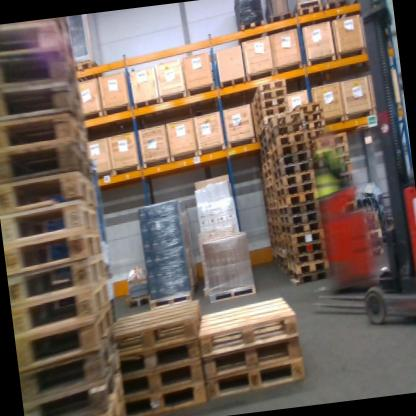forklift: (273, 0, 416, 338)
pallet: (21, 339, 126, 410), (194, 288, 300, 358), (13, 306, 116, 371), (0, 103, 94, 173), (202, 353, 312, 411), (9, 280, 115, 340), (109, 292, 203, 359), (0, 49, 86, 109), (22, 367, 124, 416), (198, 328, 301, 375), (0, 78, 88, 133), (0, 196, 99, 244), (0, 172, 99, 217), (4, 231, 110, 272), (0, 141, 94, 187), (7, 258, 108, 300), (118, 352, 207, 395), (122, 375, 210, 415), (0, 22, 78, 67), (115, 343, 202, 373), (202, 277, 260, 309), (70, 52, 108, 89), (149, 287, 197, 315), (82, 389, 131, 416), (268, 128, 311, 157), (264, 108, 305, 135), (269, 141, 310, 168), (251, 78, 289, 107), (251, 96, 290, 122), (275, 188, 319, 210), (266, 120, 304, 145), (250, 86, 286, 112), (272, 159, 311, 183), (273, 169, 314, 190), (271, 151, 310, 173), (279, 219, 323, 238), (254, 103, 287, 128), (285, 248, 327, 267), (283, 239, 327, 257), (275, 180, 316, 199), (283, 226, 324, 245), (287, 258, 330, 276), (279, 208, 322, 225), (276, 202, 320, 218), (255, 111, 285, 134), (289, 268, 331, 284), (294, 4, 326, 24), (312, 132, 346, 150), (314, 142, 350, 158), (266, 5, 293, 26), (235, 18, 266, 36), (289, 109, 325, 122), (290, 100, 323, 114), (126, 292, 153, 309), (326, 0, 348, 15), (303, 118, 327, 131), (335, 175, 352, 192), (304, 128, 325, 141), (260, 166, 274, 181), (257, 135, 270, 150), (337, 162, 350, 176), (260, 159, 271, 175), (259, 151, 271, 165), (264, 174, 275, 189), (256, 127, 268, 140), (259, 143, 270, 157), (336, 153, 350, 164), (277, 265, 287, 278), (273, 246, 284, 257), (267, 184, 276, 197), (276, 257, 287, 267), (269, 206, 278, 218), (266, 191, 275, 202), (272, 223, 281, 234), (268, 198, 276, 209), (271, 231, 281, 239), (274, 238, 282, 248), (271, 216, 279, 223)
pallet_truck: (309, 162, 393, 300)
